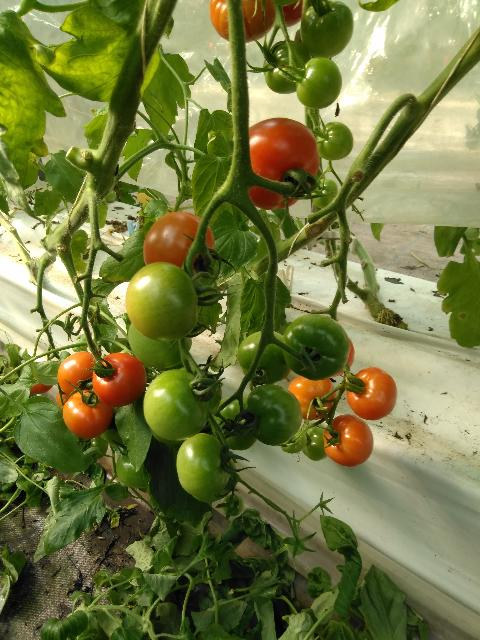l_fully_ripened: (249, 117, 319, 210), (92, 352, 147, 407)
l_green: (125, 262, 199, 341), (143, 369, 210, 441), (282, 314, 351, 382), (245, 383, 302, 447), (176, 433, 231, 498), (300, 0, 354, 58), (237, 331, 292, 385), (128, 322, 192, 368), (263, 40, 313, 94), (210, 395, 257, 450), (295, 56, 342, 109), (177, 366, 222, 416), (193, 455, 237, 502), (315, 121, 354, 161), (115, 448, 146, 489), (301, 421, 327, 461), (310, 178, 338, 209), (281, 429, 307, 453), (222, 494, 244, 517)
l_half_ripened: (143, 211, 214, 283), (209, 1, 275, 44), (323, 414, 375, 467), (346, 367, 397, 421), (63, 390, 113, 440), (287, 376, 337, 420), (58, 351, 100, 396)
